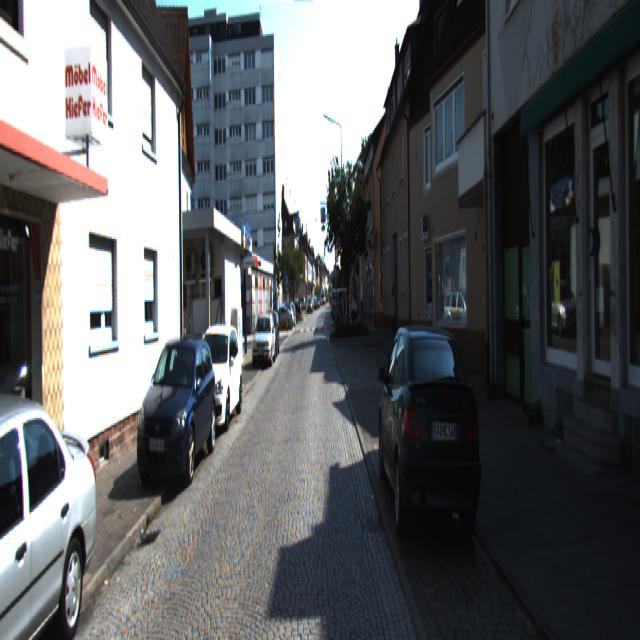Car: (376, 319, 489, 563), (0, 391, 104, 638), (133, 332, 218, 497), (187, 323, 243, 435), (251, 312, 276, 367)
